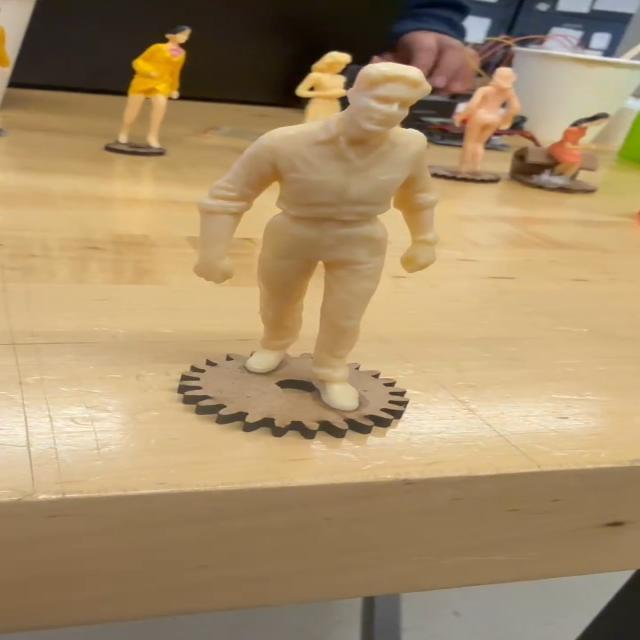Unauthorized: (182, 53, 454, 419)
